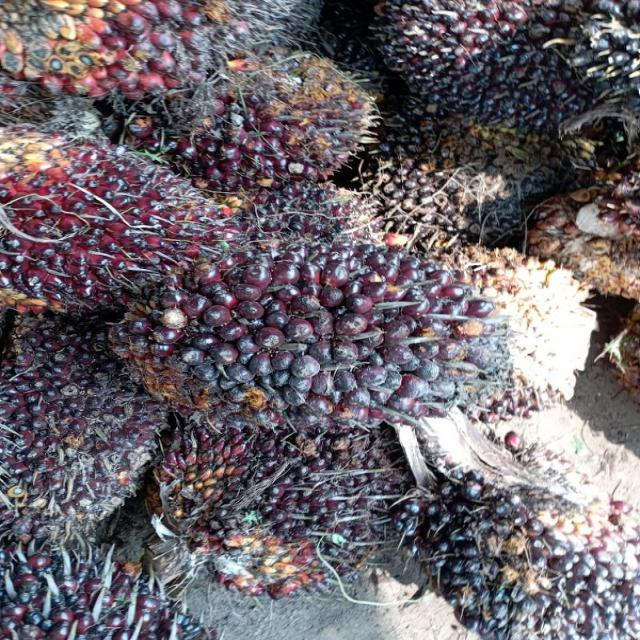fraksi 00: (116, 235, 609, 441), (392, 437, 640, 640), (143, 407, 389, 583), (0, 320, 171, 554)
fraksi 1: (0, 129, 235, 320), (168, 42, 394, 193)
